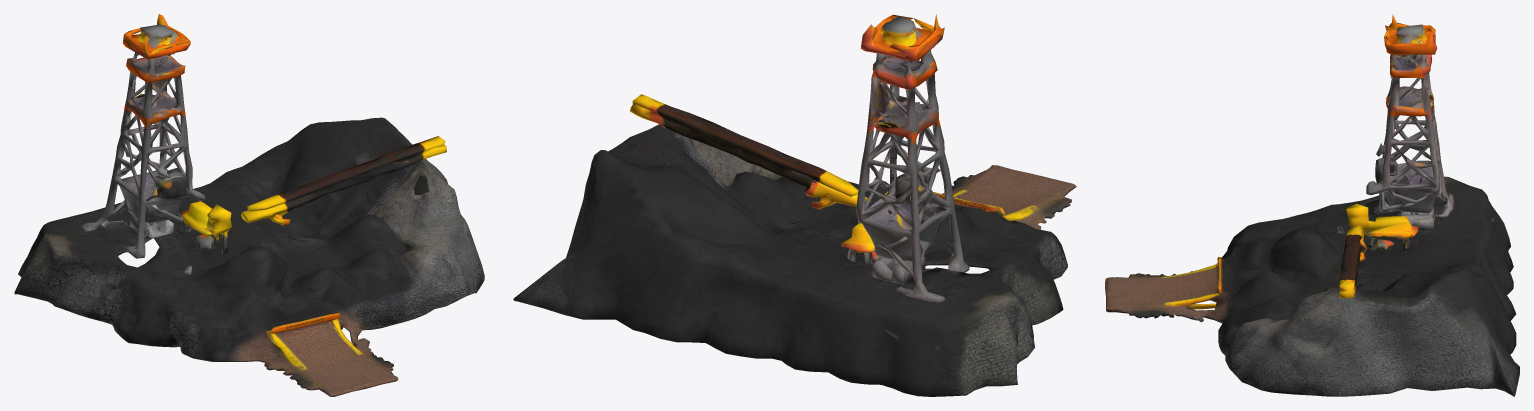
File: minehead.glb
The picture shows the model from 3 angles, left to right: view 1: azimuth 30°, elevation 25°; view 2: azimuth 150°, elevation 25°; view 3: azimuth 270°, elevation 25°; orthographic projection. The views are drawn at different scales.
Size of the model in its own units: 1.91 by 1.24 by 1.85.
1 material, 1 textured.
